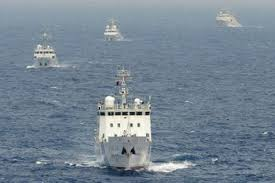tau_muctieu: (95, 76, 153, 172), (31, 32, 60, 72), (103, 19, 124, 45), (216, 9, 242, 27)
